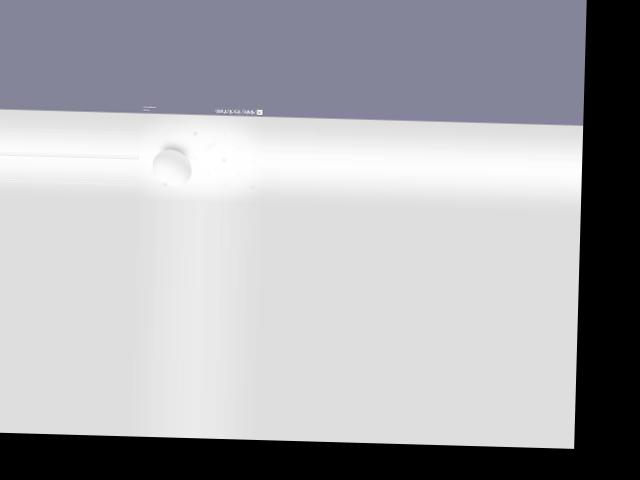egg: (151, 148, 191, 185)
